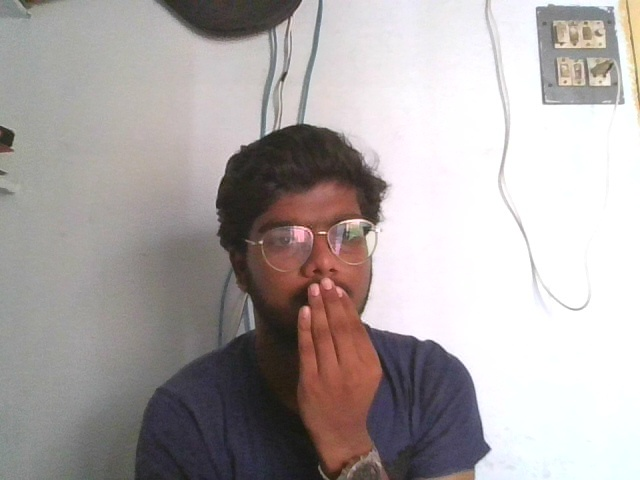Thanks: (288, 276, 387, 434)
